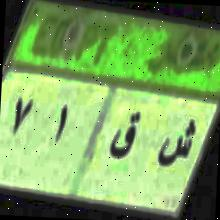1: (50, 95, 70, 149)
7: (8, 89, 34, 142)
qaaf: (107, 106, 140, 174)
sheen: (153, 105, 196, 176)
